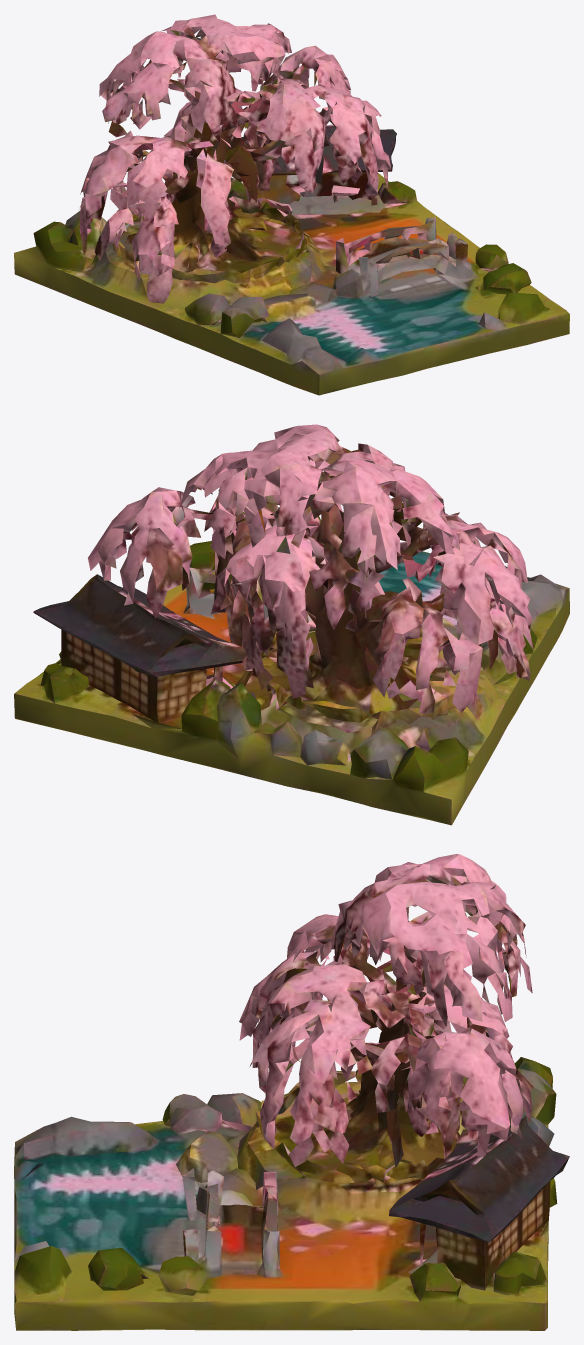
The model's file is maruyama-park-kyoto.glb.
3 views of the same model, one above another, from view 1: azimuth 30°, elevation 25°; view 2: azimuth 150°, elevation 25°; view 3: azimuth 270°, elevation 25° (orthographic). The views are drawn at different scales.
Parts seen in each view (by area): view 1: logan-textured.obj; view 2: logan-textured.obj; view 3: logan-textured.obj.
Part boxes in pixels (x1=…): logan-textured.obj: x1=14, y1=14, x2=569, y2=395; logan-textured.obj: x1=14, y1=424, x2=569, y2=825; logan-textured.obj: x1=14, y1=854, x2=569, y2=1330.
Bounding box in the file's own units: 0.9929 × 0.6399 × 1.
Materials: 1 (1 with a texture image).
